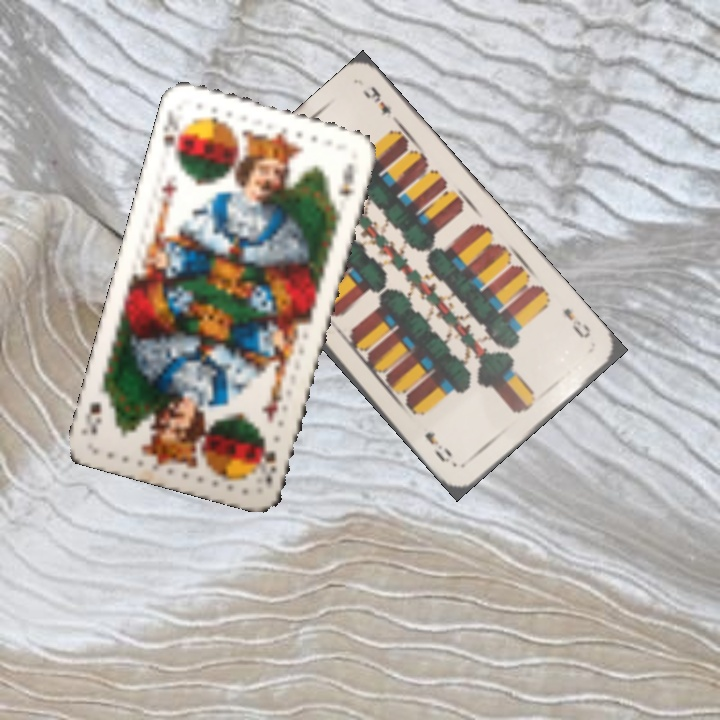E9: (558, 304, 593, 341)
SK: (159, 105, 185, 163), (260, 447, 280, 489)
